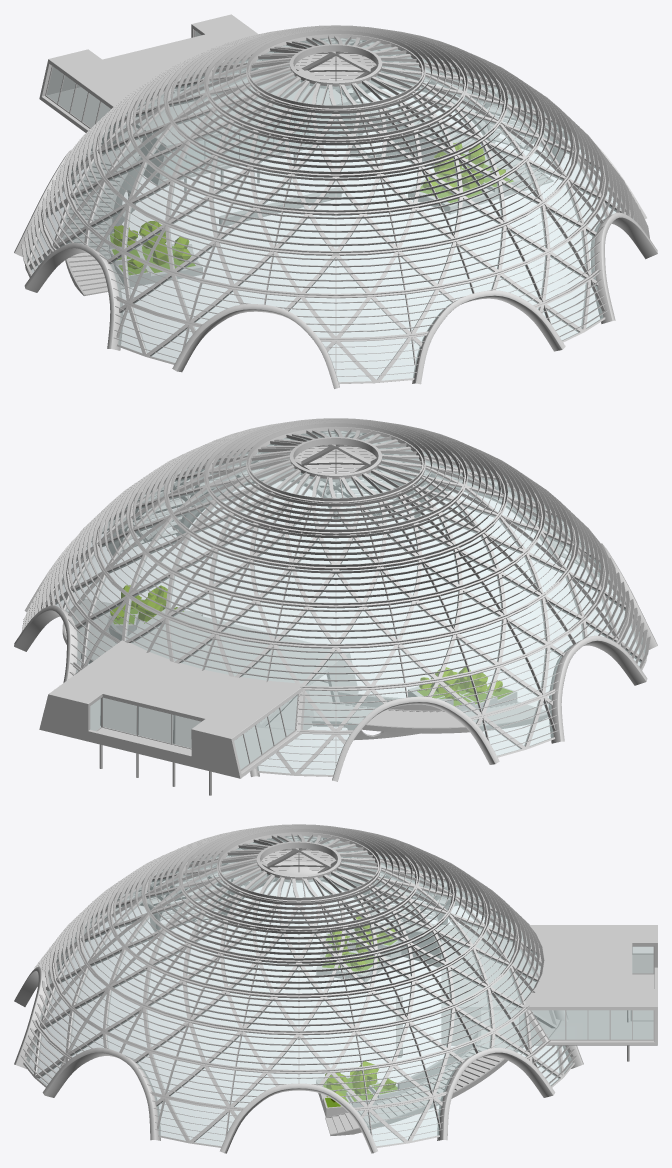
Rendered from dome_object.glb.
3 renders of one model, top to bottom at view 1: azimuth 30°, elevation 25°; view 2: azimuth 150°, elevation 25°; view 3: azimuth 270°, elevation 25°, orthographic. The views are drawn at different scales.
Visible parts, largest first — view 1: DOME_OBJECT_MOD; view 2: DOME_OBJECT_MOD; view 3: DOME_OBJECT_MOD.
Boxes of the visible parts, x1,y1,x2,y2 form: DOME_OBJECT_MOD: [14, 14, 657, 388]; DOME_OBJECT_MOD: [14, 418, 657, 795]; DOME_OBJECT_MOD: [14, 824, 657, 1153].
Bounding box in the file's own units: 6654 × 2305 × 7517.
